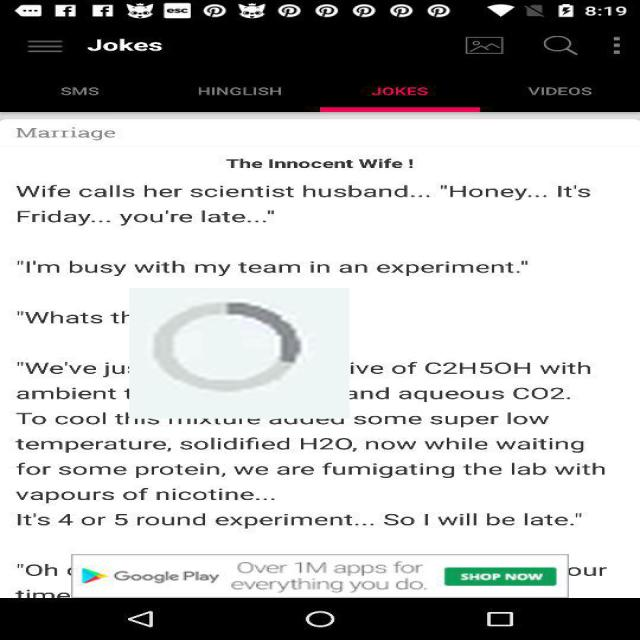misdirection: (129, 288, 350, 419)
